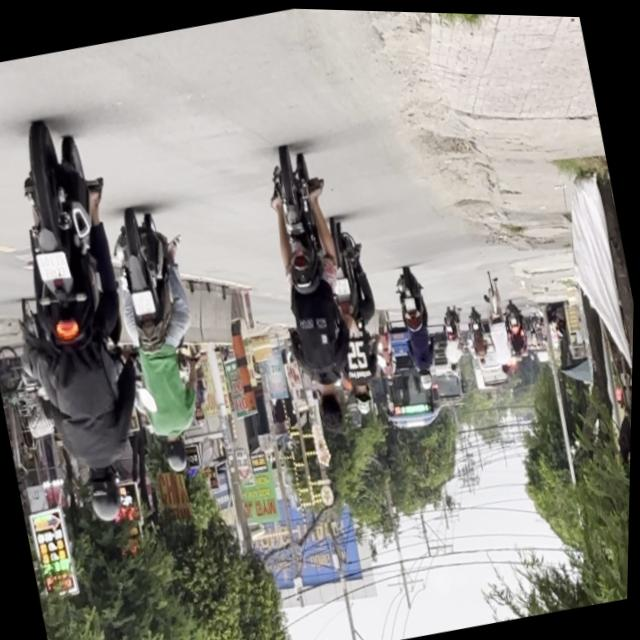helmet: (83, 463, 127, 526), (161, 432, 192, 475)
licenseplate: (0, 110, 171, 536), (248, 135, 378, 437), (95, 199, 226, 481)
motorcyclist: (313, 379, 347, 432)
nohelmet: (35, 248, 71, 284), (131, 288, 156, 315)
